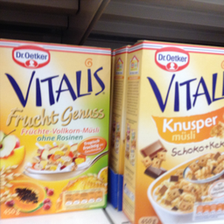cereal: (1, 37, 113, 219), (123, 41, 223, 224)
